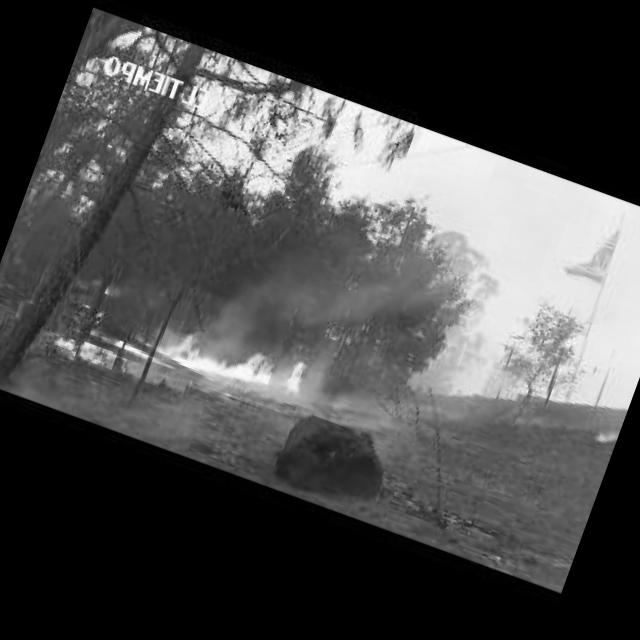fire: (158, 316, 312, 406), (54, 333, 115, 371)
smoke: (197, 177, 428, 387)
